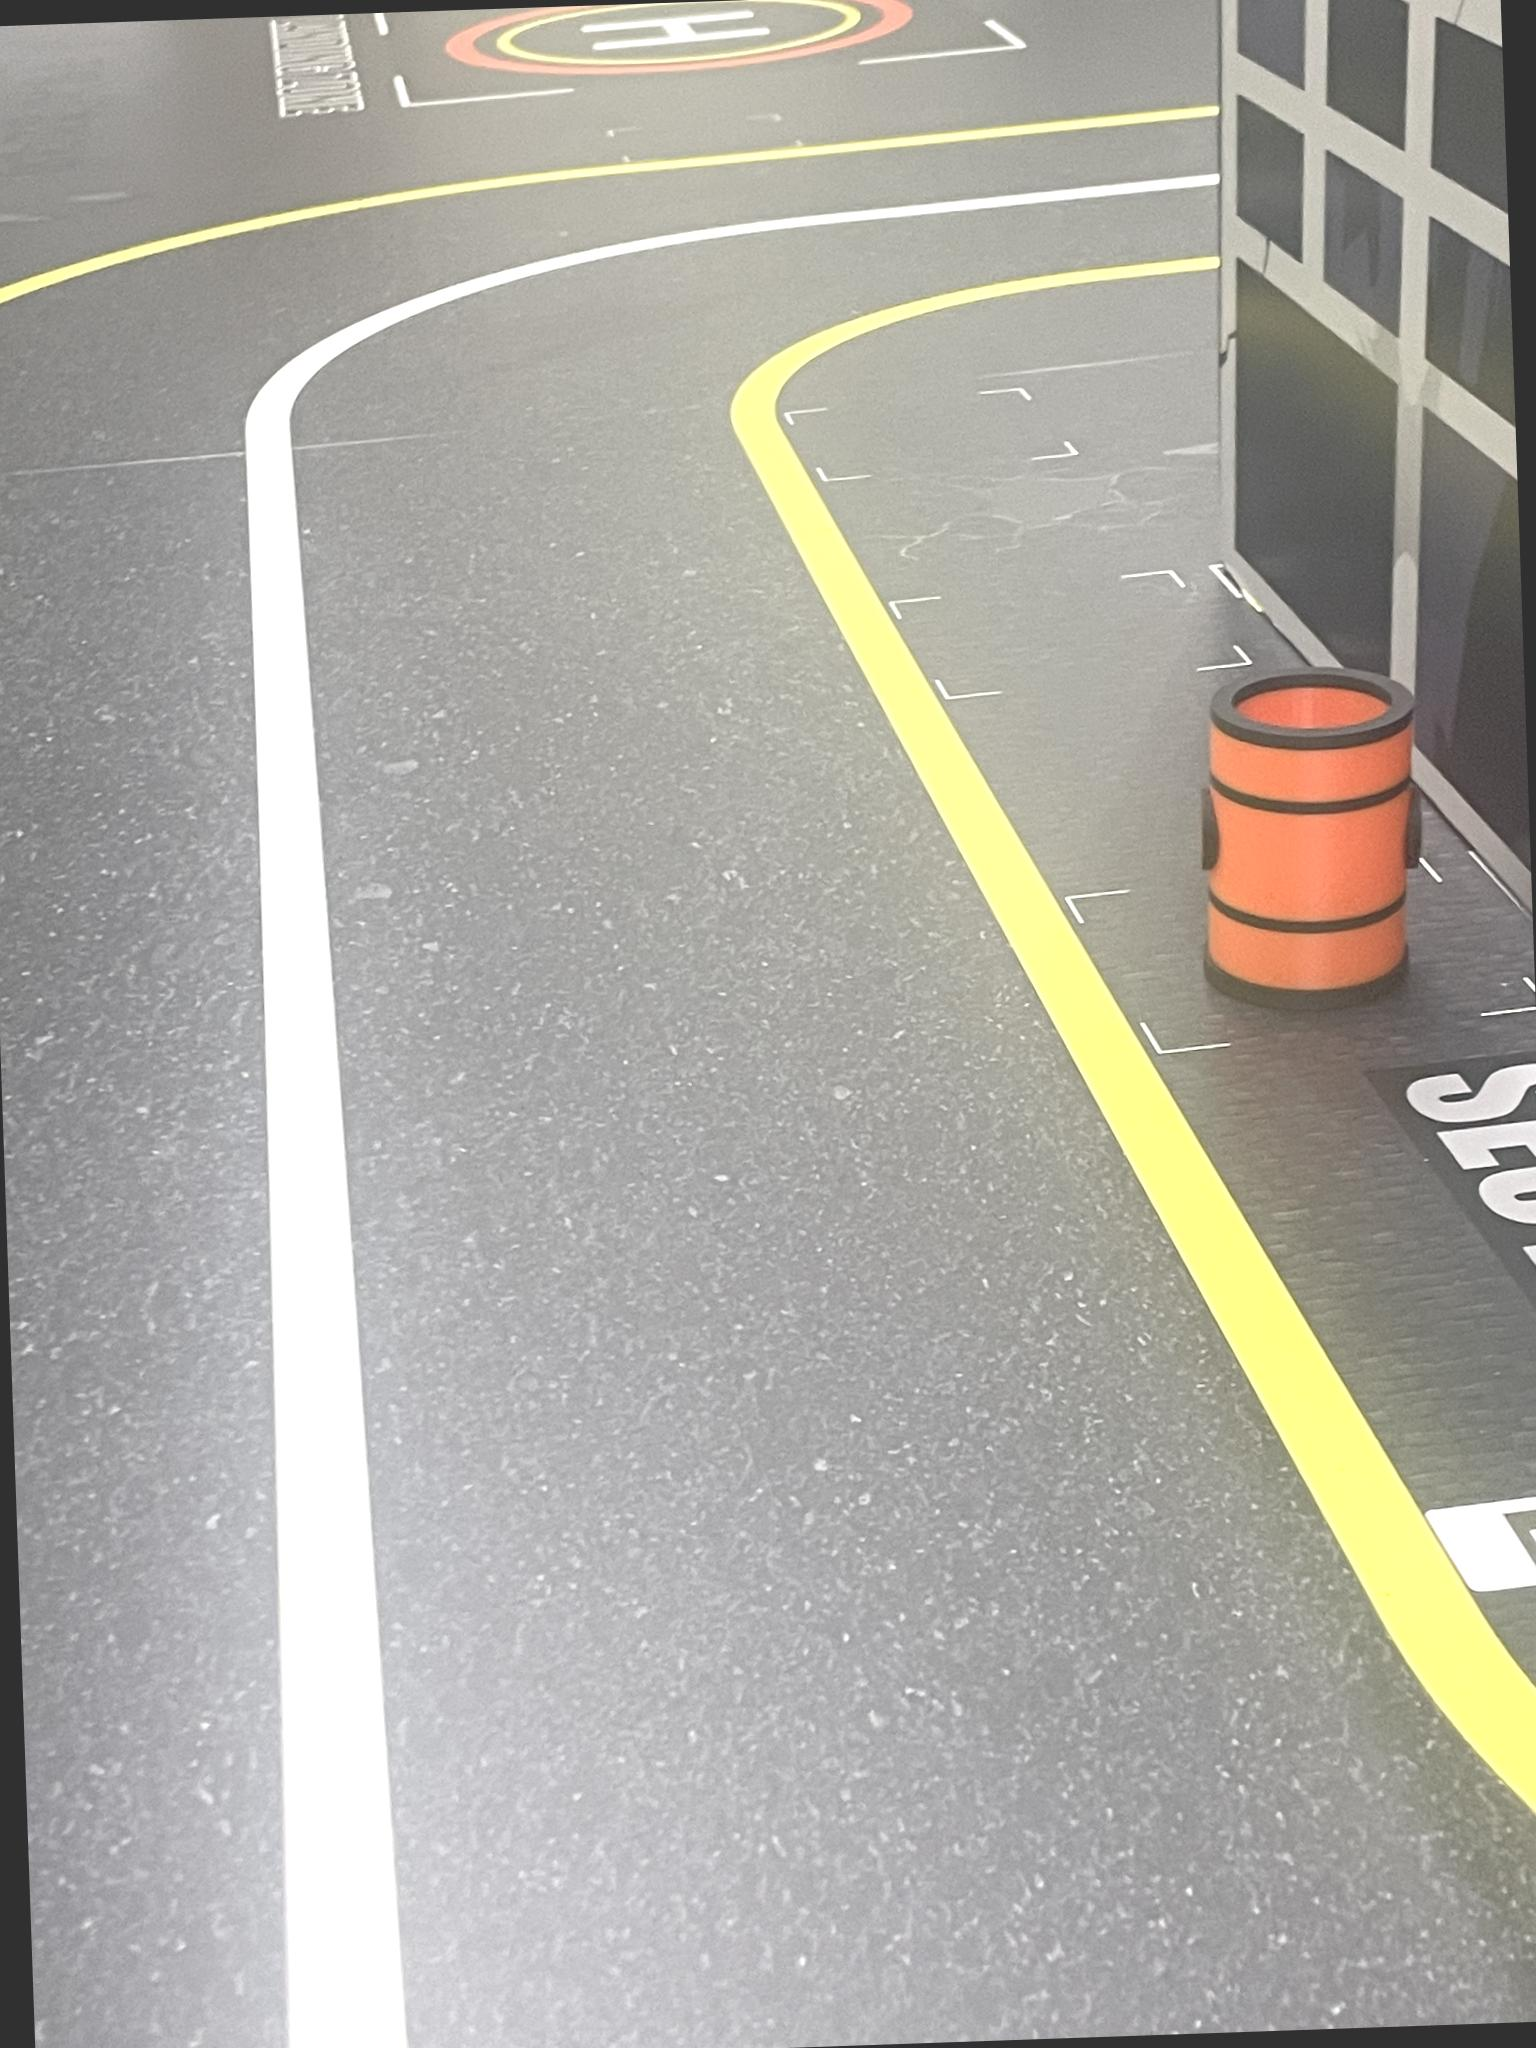Hazmat: (1176, 648, 1438, 1006)
